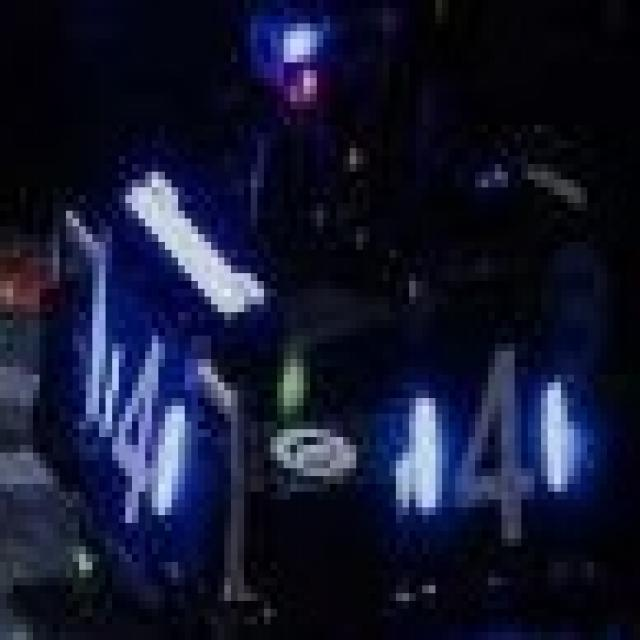B4: (409, 344, 574, 546), (92, 336, 192, 538)
